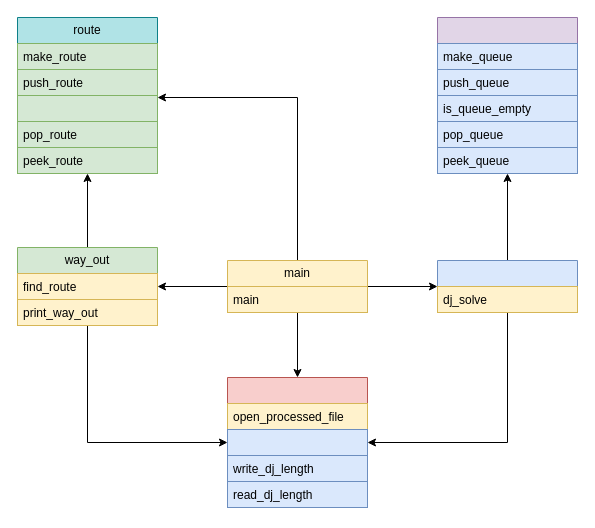
Image size: 595x528. Some labels were removed from this diagram. The shapes that lost their labels are listed below. From the top down, each one's box as (x1, y1, x2, y2) in pixels, then its label:
(16, 94, 158, 122): is_route_empty
(436, 16, 578, 174): nodeheader_prio_queue
(436, 260, 578, 312): maze_solver
(226, 376, 368, 508): graph_file_reader
(226, 428, 368, 456): read_single_node
